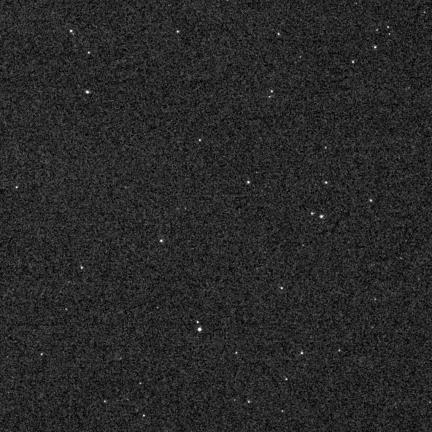blob: (198, 327, 202, 331), (374, 46, 378, 49), (177, 30, 180, 34), (301, 352, 304, 355), (247, 181, 250, 184), (86, 91, 89, 94), (320, 215, 323, 218), (369, 199, 372, 202), (160, 239, 163, 242)
